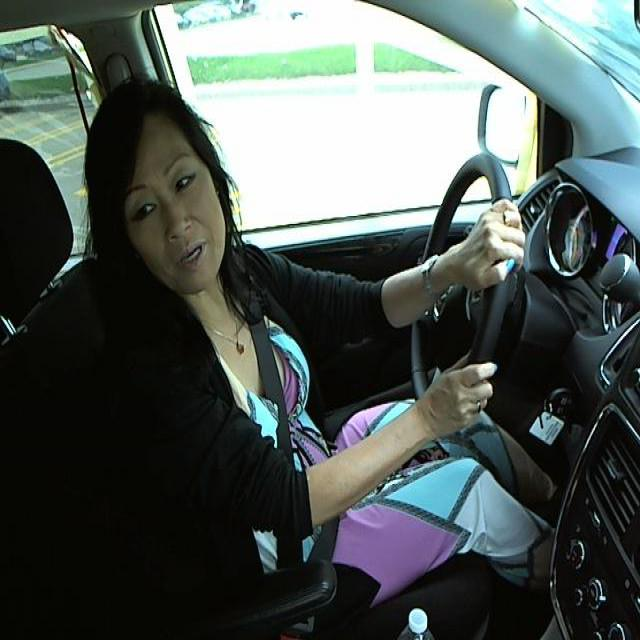seatbelt: (250, 307, 346, 561)
